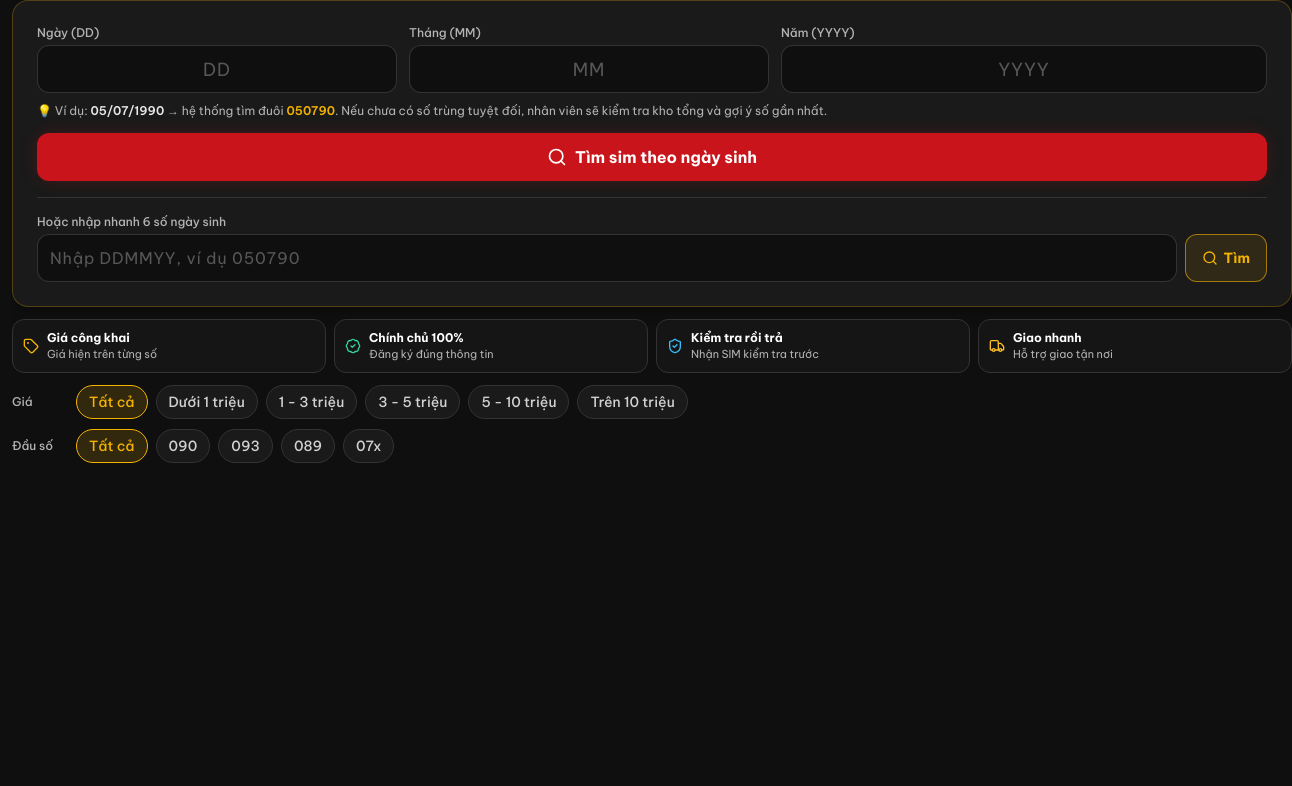
Test case: SimNgaySinhFinder — landing /sim-ngay-thang-nam-sinh › ca A–E: form 010805 → ô nhanh 050790 ghi đè; nhập sai xoá kết quả cũ; nhập lại 010805 chạy lại
This screenshot has width=1292, height=786.
Later steps or results of the test are not shown.
Type "01" into the field labelled "Ngày (DD)" at {"x": 217, "y": 69}, box x1=37 y1=45 x2=397 y2=93
Type "08" into the field labelled "Tháng (MM)" at {"x": 589, "y": 69}, box x1=409 y1=45 x2=769 y2=93
Type "2005" into the field labelled "Năm (YYYY)" at {"x": 1024, "y": 69}, box x1=781 y1=45 x2=1267 y2=93
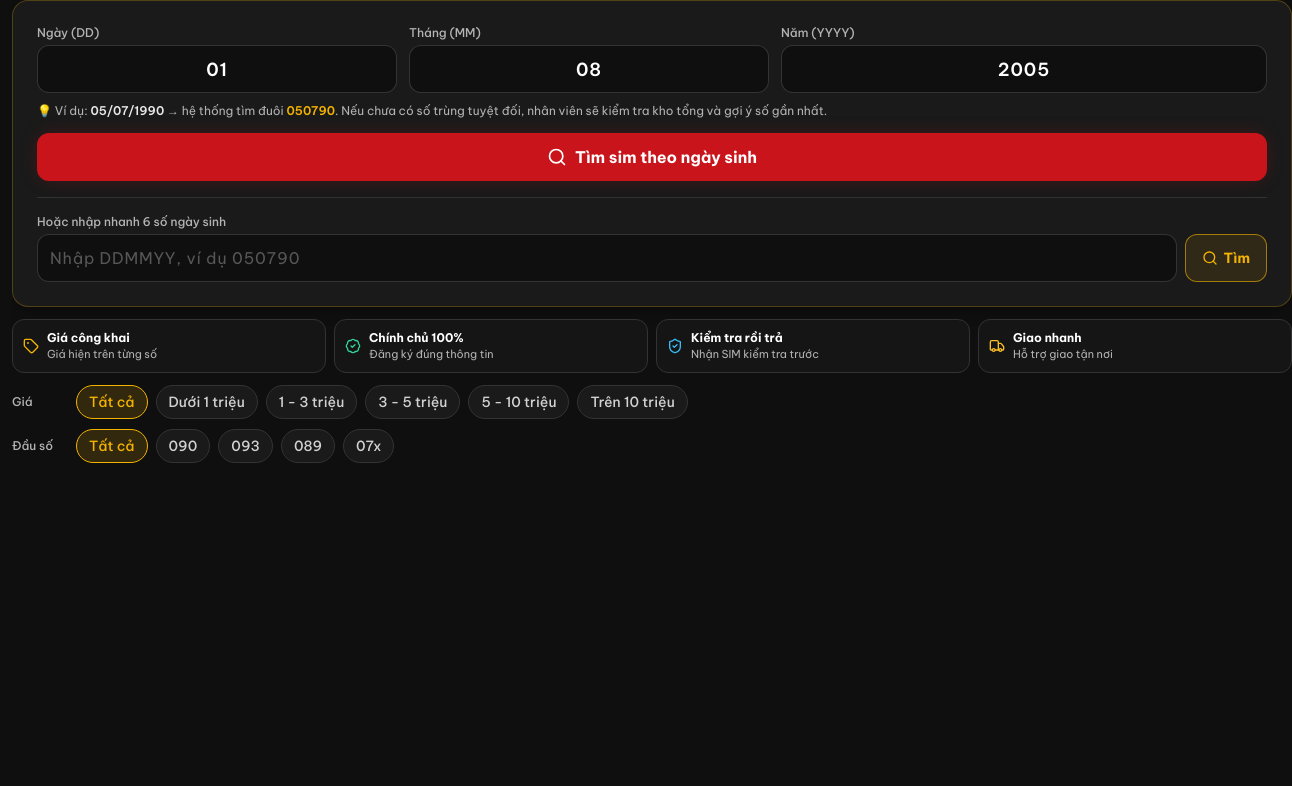
Click the button "Tìm sim theo ngày sinh" at {"x": 652, "y": 156}, box x1=37 y1=132 x2=1267 y2=180
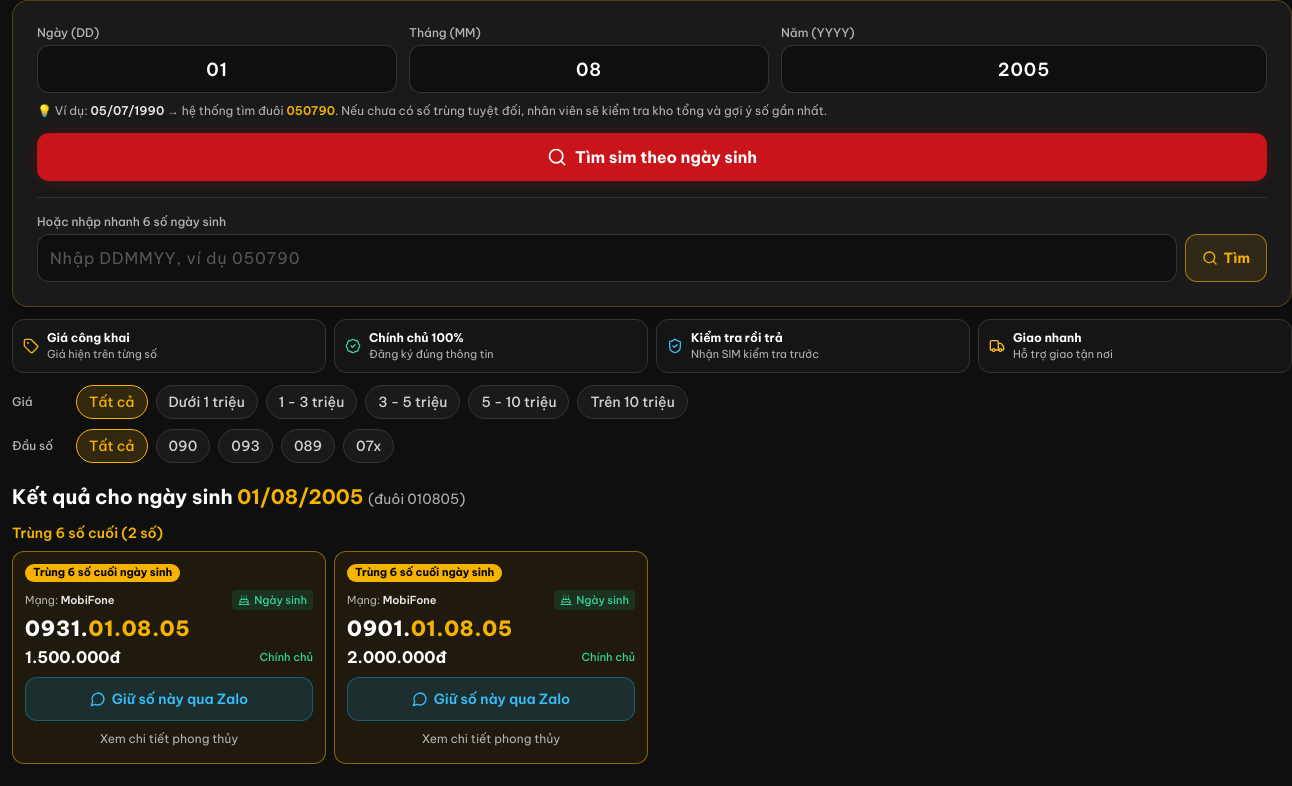
expect the text "Trùng 6 số cuối ngày sinh" is shown 2 times: met, box x1=25 y1=564 x2=180 y2=582; x1=347 y1=564 x2=502 y2=582
expect the text "(đuôi 010805)" is shown: met, box x1=368 y1=490 x2=466 y2=508
Type "050790" into the field with placeholder "Nhập DDMMYY, ví dụ 050790" at {"x": 607, "y": 258}, box x1=37 y1=234 x2=1177 y2=282
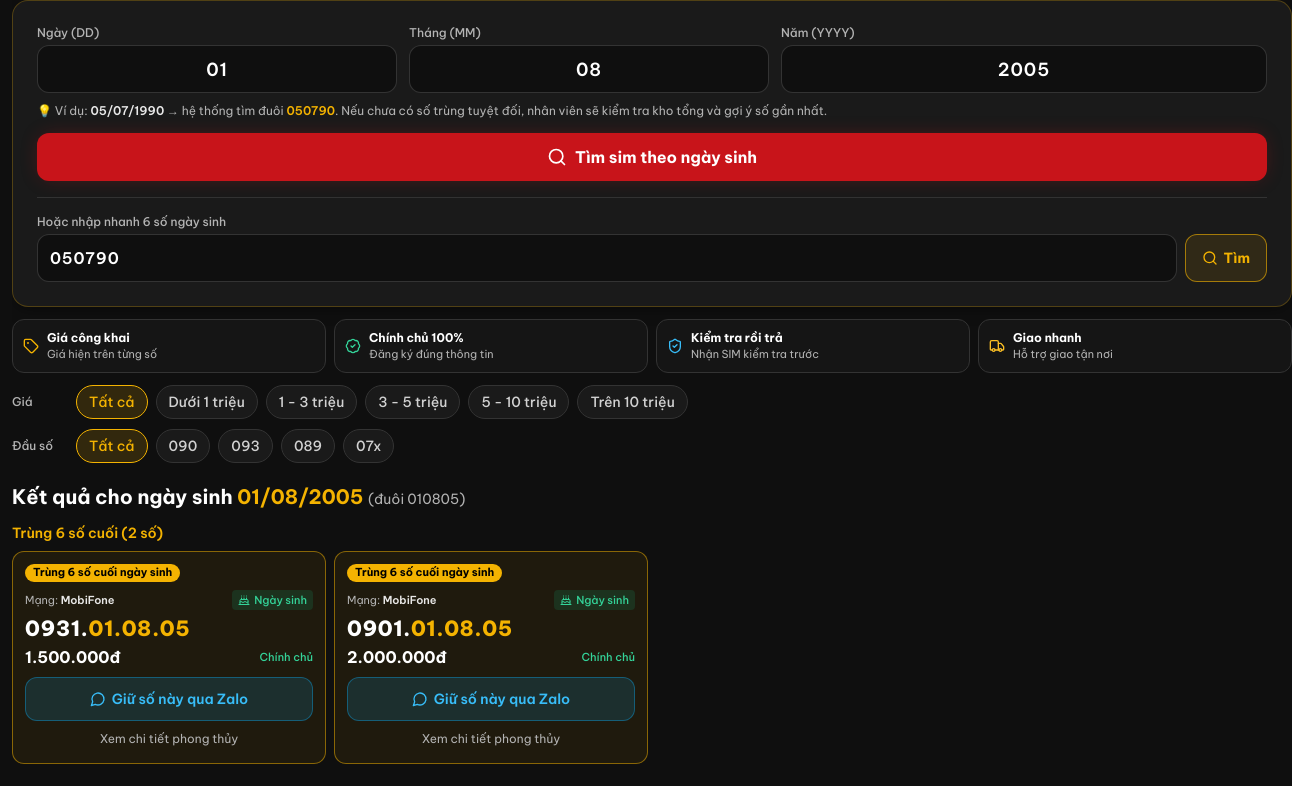
Click the button "Tìm" at {"x": 1226, "y": 258}, box x1=1185 y1=234 x2=1267 y2=282
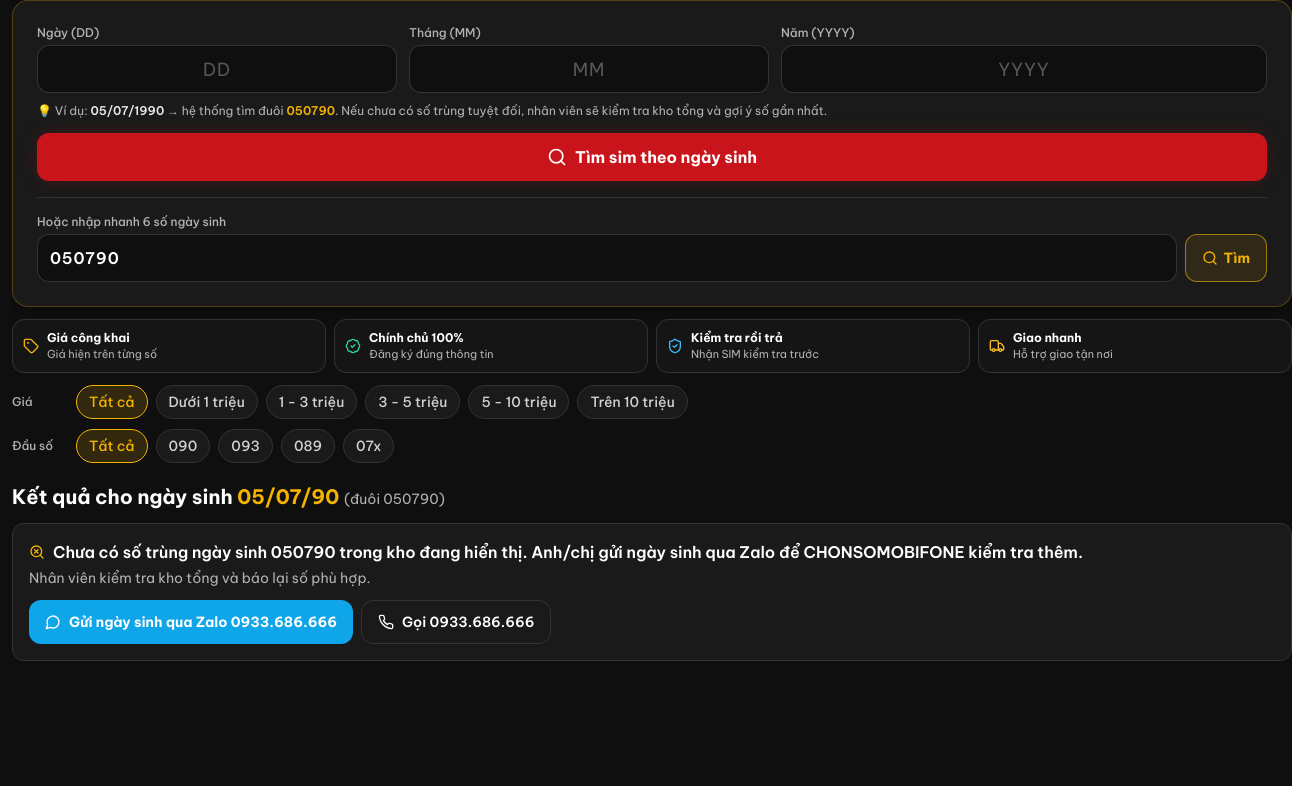
expect the text "Chưa có số trùng ngày sinh 050790 trong kho đang hiển thị" is shown: met, box x1=29 y1=542 x2=1083 y2=562
expect the text "010805" is gone: met
expect the field labelled "Ngày (DD)" is empty: met, box x1=37 y1=45 x2=397 y2=93
Replace the text in the field with placeholder "Nhập DDMMYY, ví dụ 050790" with "123" at {"x": 607, "y": 258}, box x1=37 y1=234 x2=1177 y2=282
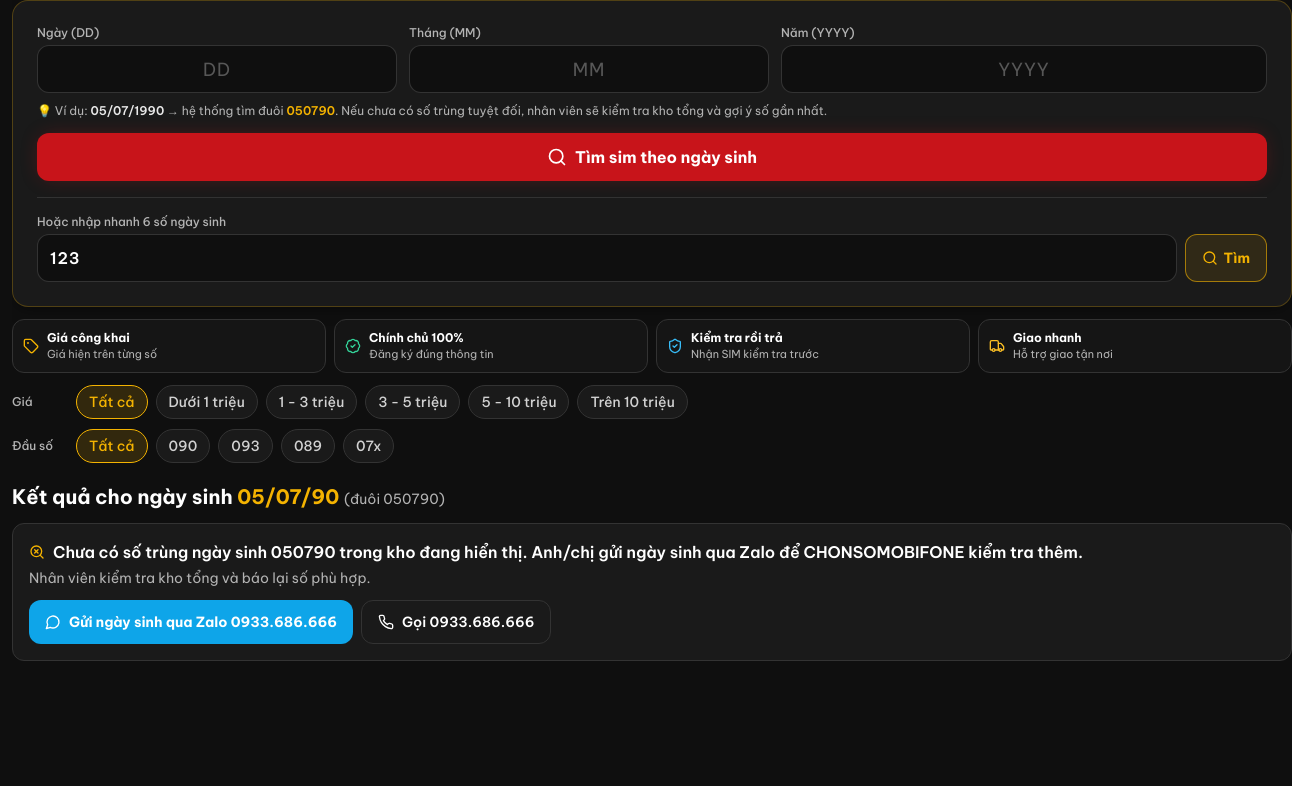
Click the button "Tìm" at {"x": 1226, "y": 258}, box x1=1185 y1=234 x2=1267 y2=282
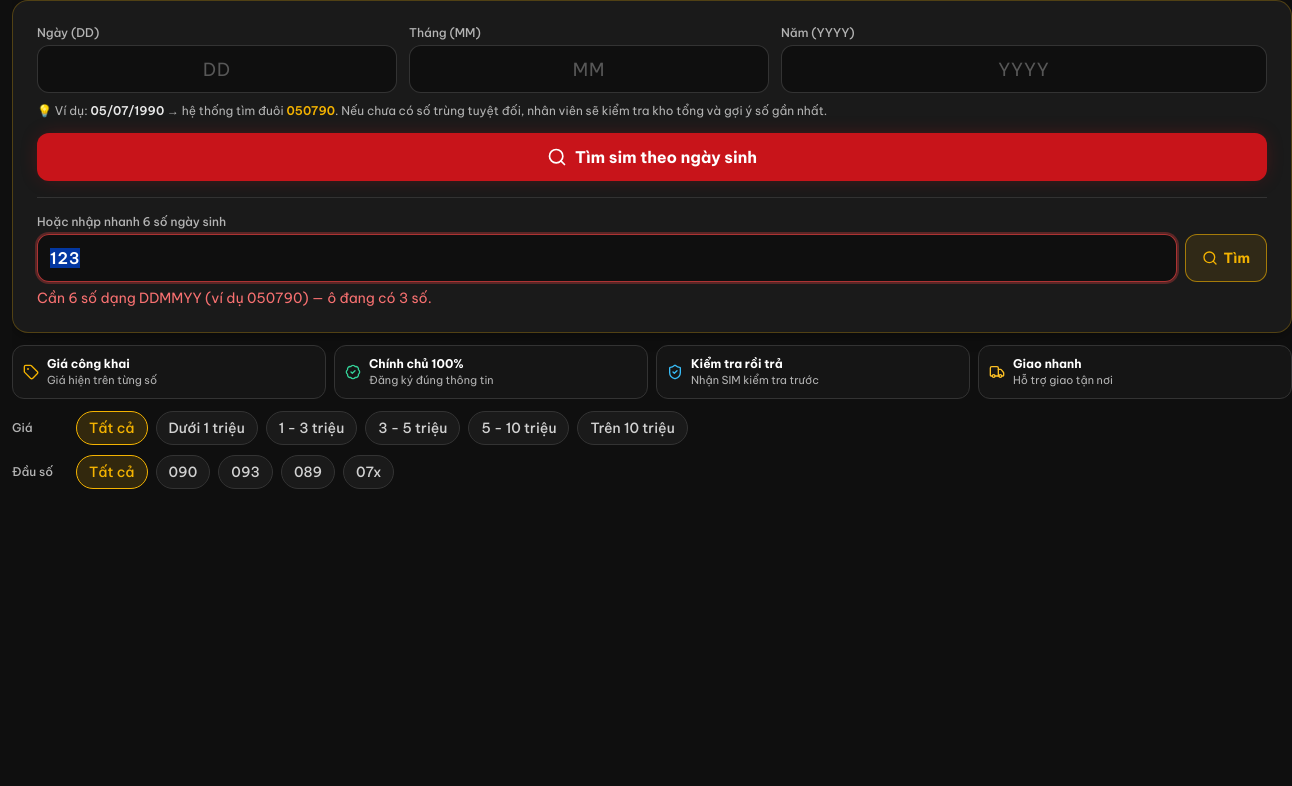
expect the text "Kết quả cho ngày sinh" is gone: met
